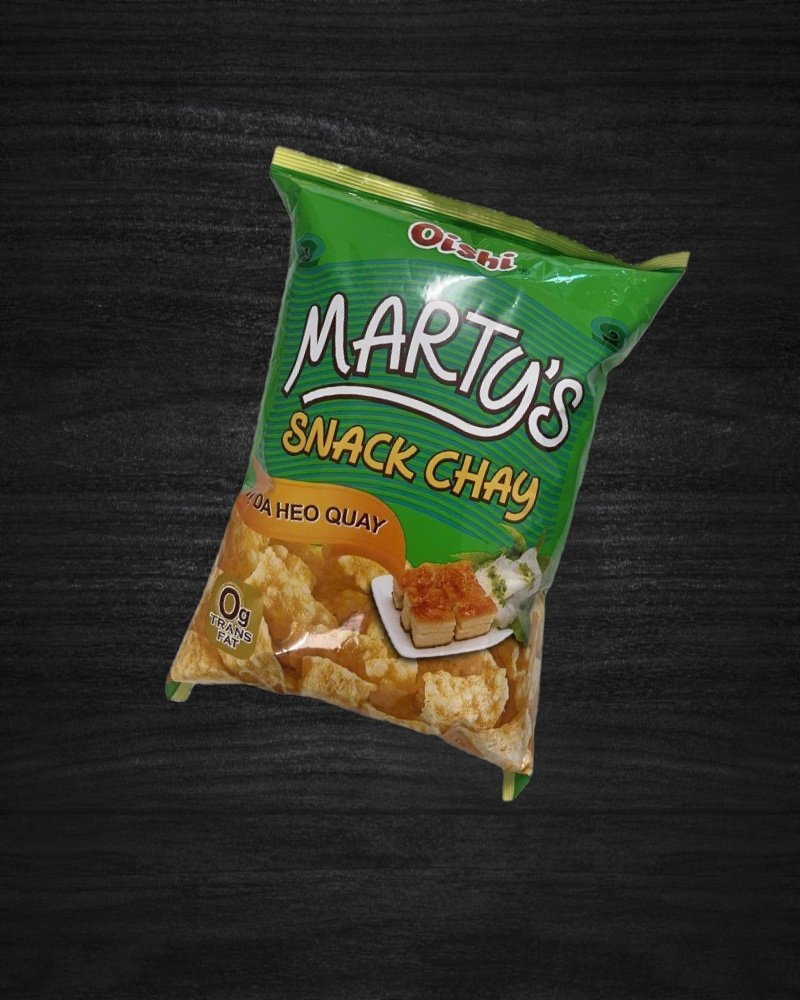Snack chay: (127, 141, 692, 813)
